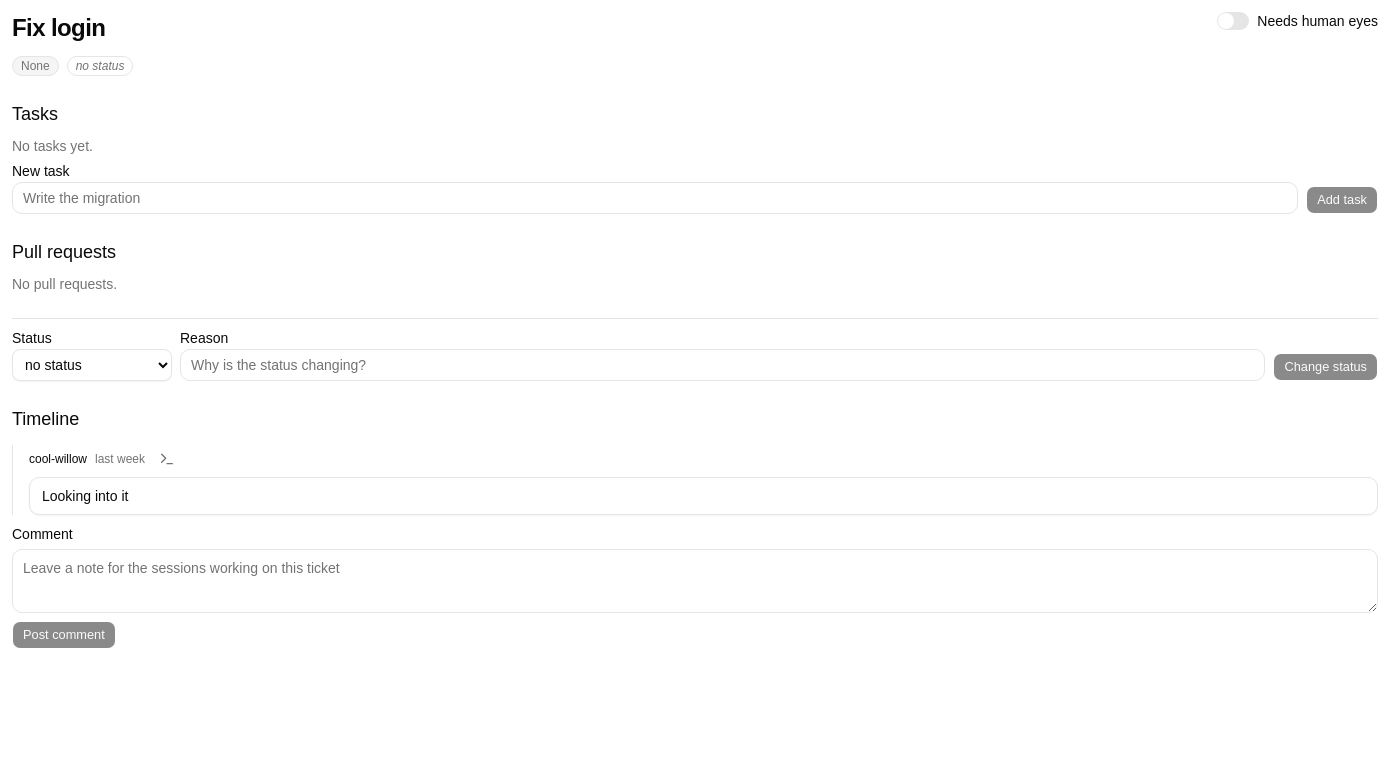
it: TicketDetailPage › human can post a comment; request carries actor_session_id "human" and timeline refreshes
Expected: the number of list items is 1, 29,445 -> 1378,515
In the text box labelled "Comment": (695, 581) 12,549 -> 1378,613, type "Looks good"
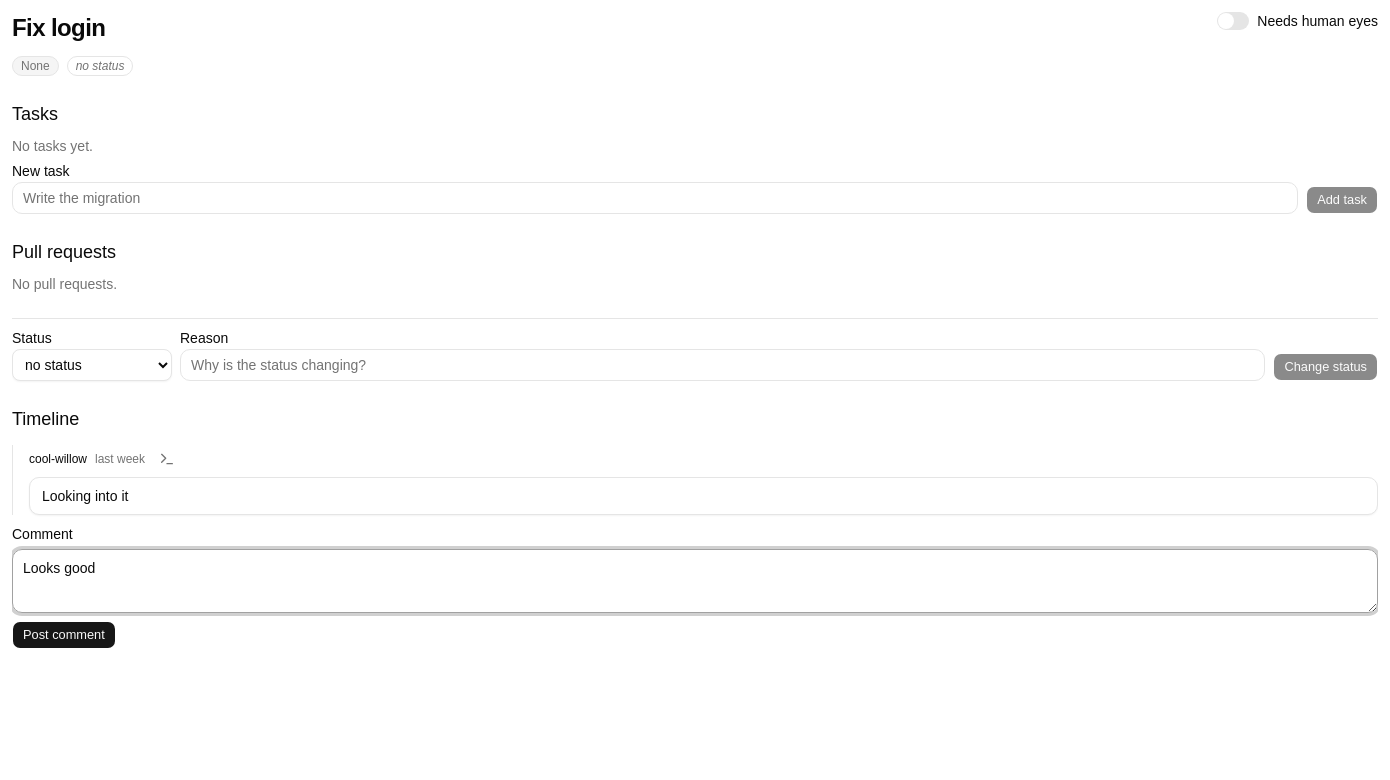
Click the button "Post comment": (64, 635) 12,621 -> 116,649
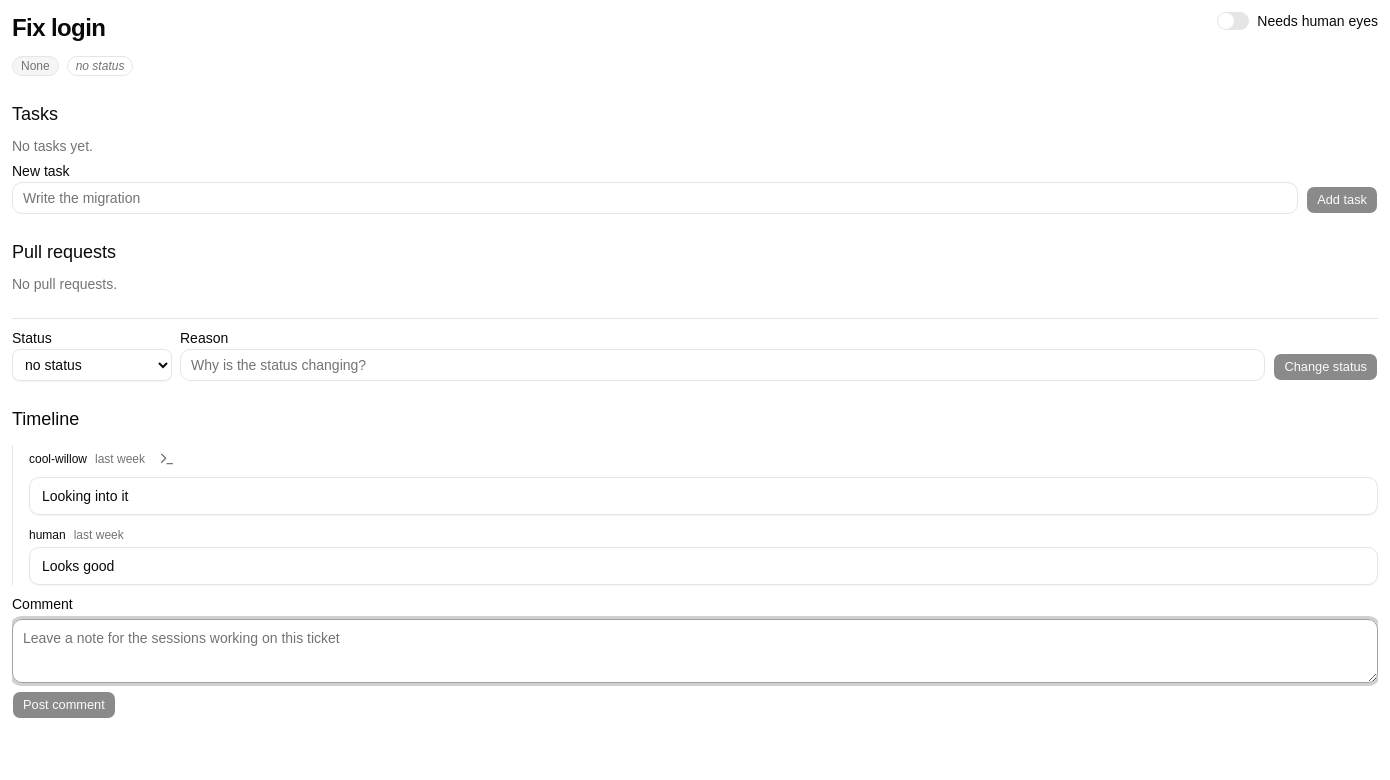
Expected: the number of list items is 2, 29,445 -> 1378,515; 29,527 -> 1378,585
Expected: the text "Looks good" is shown, 29,547 -> 1378,585
Expected: the text "human" is shown, 29,527 -> 66,543
